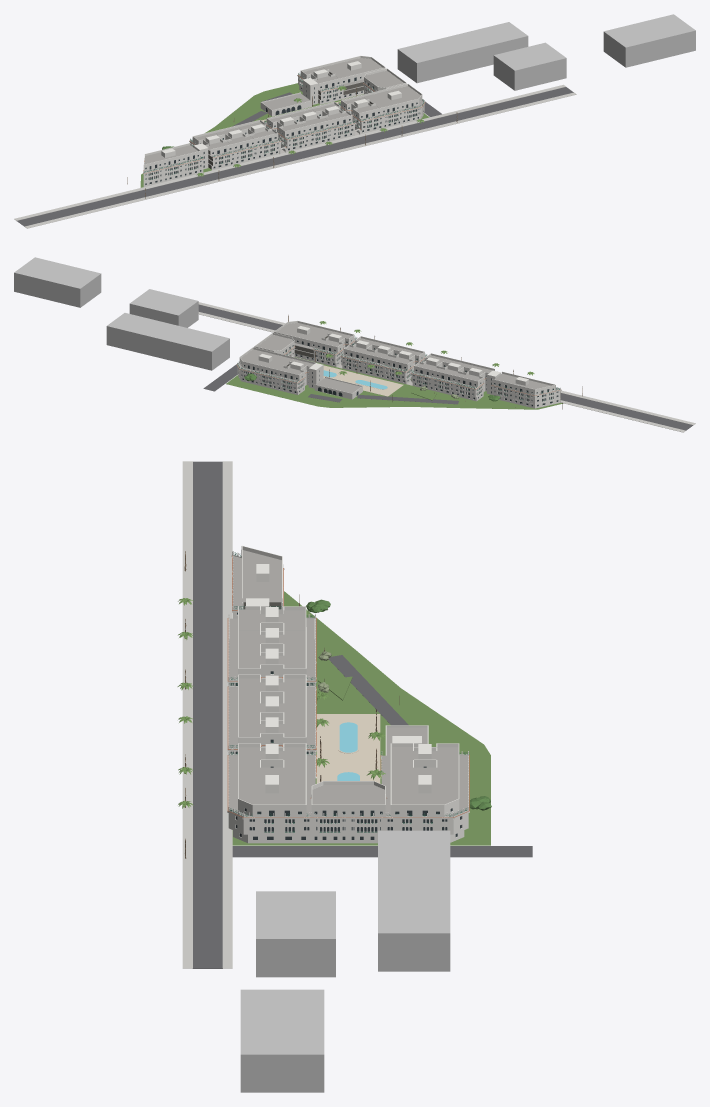
File: del-costa-2.glb
The picture shows the model from 3 angles, top to bottom: view 1: azimuth 30°, elevation 25°; view 2: azimuth 150°, elevation 25°; view 3: azimuth 270°, elevation 25°; orthographic projection. The views are drawn at different scales.
Visible parts, largest first — view 1: Contexte, Voirie, Bloc_A, Bloc_F, Bloc_C, Bloc_E, Bloc_H, Parcelle, Bloc_G, Bloc_B, Bloc_D, Cafe_Restaurant (+1 smaller); view 2: Contexte, Voirie, Parcelle, Bloc_A, Bloc_F, Bloc_E, Bloc_C, Bloc_G, Bloc_H, Piscines, Bloc_B, Bloc_D (+2 smaller); view 3: Voirie, Contexte, Bloc_F, Parcelle, Bloc_G, Bloc_A, Bloc_E, Bloc_C, Piscines, Bloc_H, Bloc_D, Bloc_B (+1 smaller).
Boxes of the visible parts, x1,y1,x2,y2 form: Contexte: (397, 14, 695, 90); Voirie: (14, 84, 576, 228); Bloc_A: (143, 131, 236, 186); Bloc_F: (363, 68, 425, 128); Bloc_C: (238, 112, 310, 159); Bloc_E: (312, 94, 384, 141); Bloc_H: (297, 65, 343, 104); Parcelle: (140, 83, 429, 187); Bloc_G: (323, 55, 385, 99); Bloc_B: (215, 125, 258, 164); Bloc_D: (289, 107, 332, 146); Cafe_Restaurant: (260, 92, 311, 116); Contexte: (14, 257, 229, 370); Voirie: (198, 302, 695, 432); Parcelle: (226, 357, 563, 409); Bloc_A: (453, 364, 561, 408); Bloc_F: (254, 320, 333, 361); Bloc_E: (313, 329, 381, 373); Bloc_C: (383, 346, 452, 390); Bloc_G: (236, 347, 294, 389); Bloc_H: (275, 357, 323, 394); Piscines: (323, 364, 412, 396); Bloc_B: (432, 358, 473, 394); Bloc_D: (362, 341, 403, 378); Voirie: (182, 461, 532, 968); Contexte: (240, 830, 450, 1092); Bloc_F: (227, 764, 386, 843); Parcelle: (232, 591, 490, 845); Bloc_G: (380, 764, 469, 842); Bloc_A: (227, 545, 316, 639); Bloc_E: (227, 716, 316, 778); Bloc_C: (227, 648, 316, 707); Piscines: (316, 714, 380, 783); Bloc_H: (380, 736, 469, 776); Bloc_D: (227, 695, 316, 728); Bloc_B: (227, 627, 316, 660).
Bounding box in the file's own units: 448 × 15.69 × 107.
